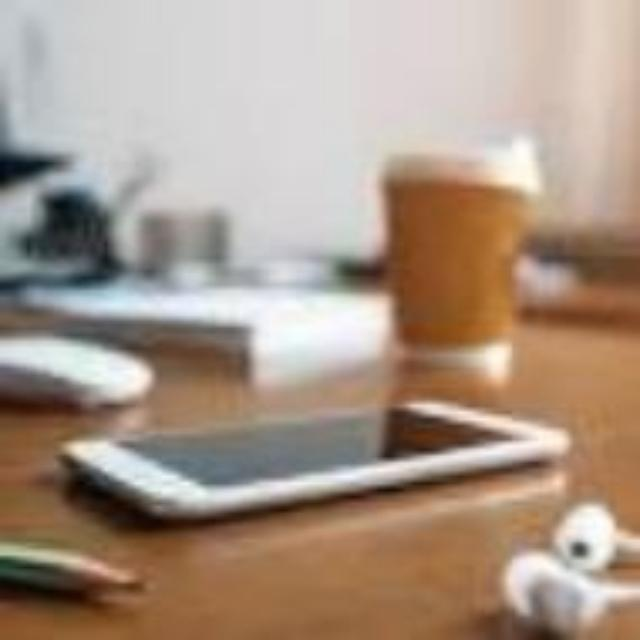Phone: (53, 396, 581, 520)
